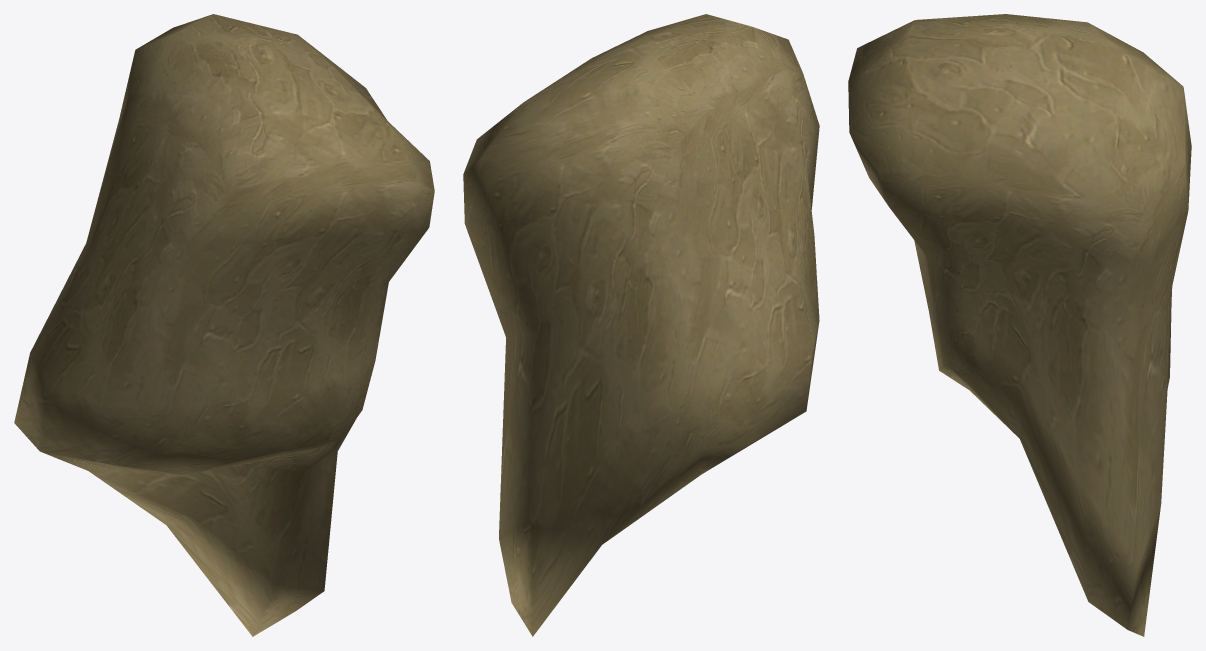
The model's file is MIRKWOOD_BLOCKERFORBILBO.fbx.
3 views of the same model, side by side, from view 1: azimuth 30°, elevation 25°; view 2: azimuth 150°, elevation 25°; view 3: azimuth 270°, elevation 25° (orthographic). The views are drawn at different scales.
Visible parts, largest first — view 1: MIRKWOOD_BLOCKERFORBILBO; view 2: MIRKWOOD_BLOCKERFORBILBO; view 3: MIRKWOOD_BLOCKERFORBILBO.
Boxes of the visible parts, <box> form: MIRKWOOD_BLOCKERFORBILBO: <box>14,14,434,636</box>; MIRKWOOD_BLOCKERFORBILBO: <box>463,14,819,636</box>; MIRKWOOD_BLOCKERFORBILBO: <box>848,14,1191,636</box>.
Size of the model in its own units: 43443 by 77330 by 41776.
Materials: 1 (1 with a texture image).
